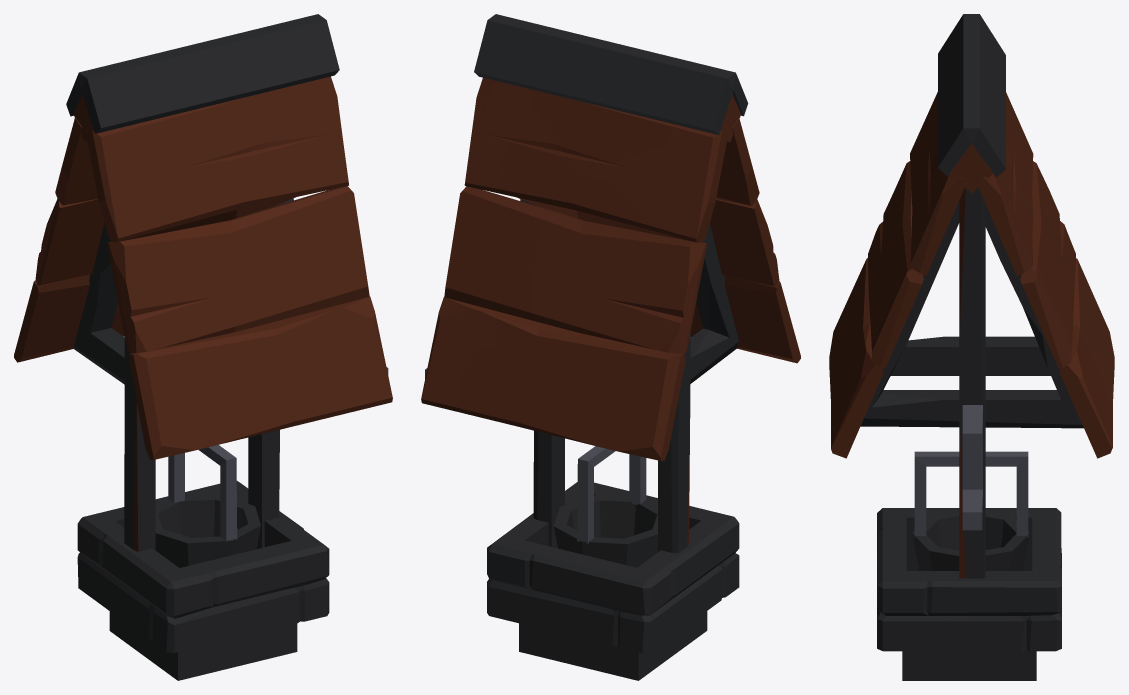
File: Well.fbx
3 views of the same model, side by side, from view 1: azimuth 30°, elevation 25°; view 2: azimuth 150°, elevation 25°; view 3: azimuth 270°, elevation 25° (orthographic). The views are drawn at different scales.
Parts seen in each view (by area): view 1: Well; view 2: Well; view 3: Well.
Part boxes in pixels (x1,y1,x2,y2): Well: (14, 14, 392, 680); Well: (421, 14, 800, 680); Well: (829, 14, 1114, 680).
Size of the model in its own units: 35.56 by 66.67 by 29.66.
